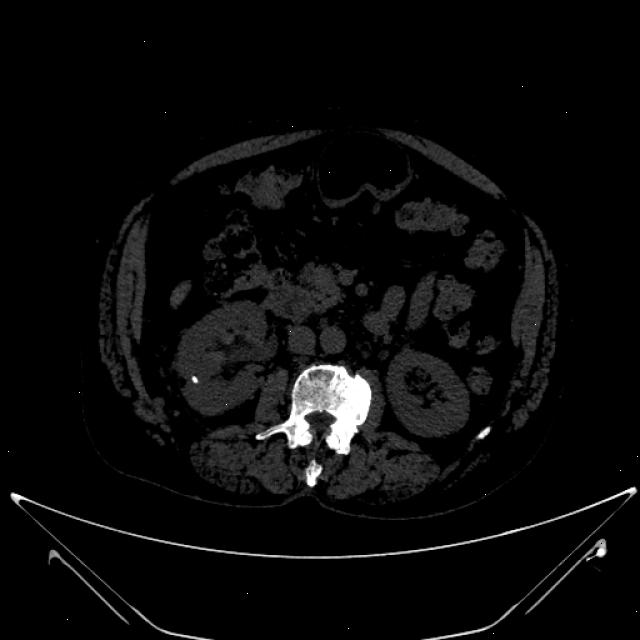kidneystone: (191, 375, 198, 383)
